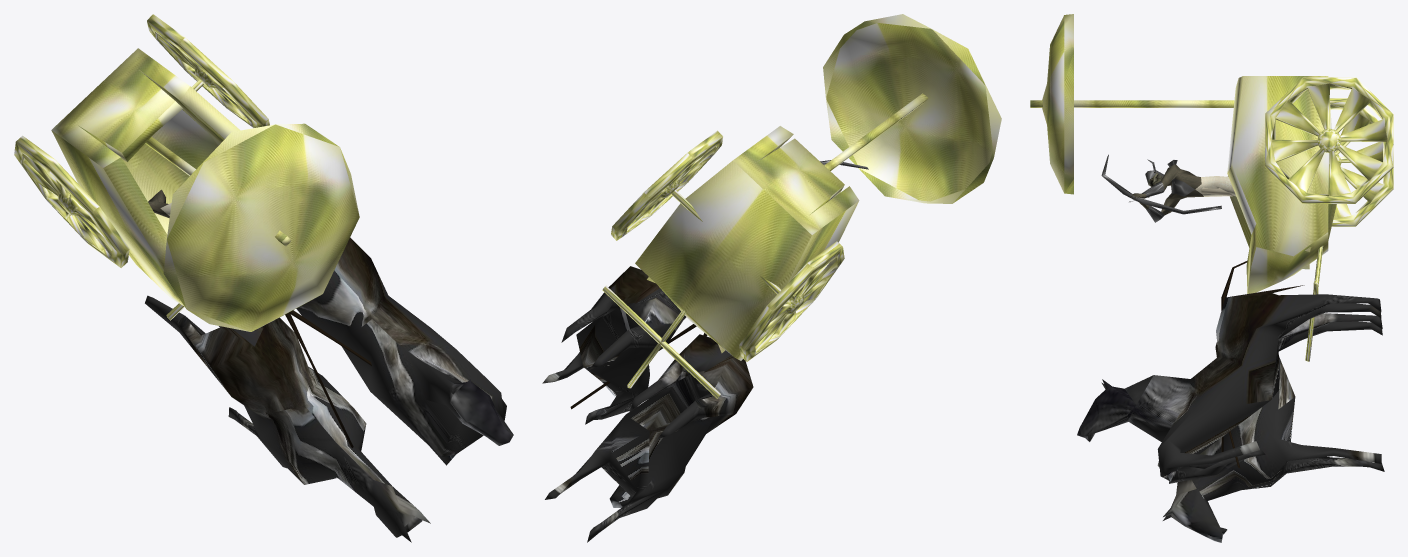
Rendered from chariot_000211.obj.
3 renders of one model, left to right at view 1: azimuth 30°, elevation 25°; view 2: azimuth 150°, elevation 25°; view 3: azimuth 270°, elevation 25°, orthographic. The views are drawn at different scales.
Visible parts, largest first — view 1: umbrella_Sphere, chariot_Cube.001, Horse.000_objHorse_0.001, Horse.001_objHorse_0.002, wheelR_Cylinder, wheelL_Cylinder.003, Cylinder_Cylinder.001; view 2: chariot_Cube.001, umbrella_Sphere, Horse.000_objHorse_0.001, Horse.001_objHorse_0.002, wheelR_Cylinder, wheelL_Cylinder.003, rod_Cylinder.002; view 3: Horse.001_objHorse_0.002, chariot_Cube.001, Horse.000_objHorse_0.001, wheelL_Cylinder.003, umbrella_Sphere, A4_Circle, wheelR_Cylinder, rod_Cylinder.002.
Part boxes in pixels (box(x1,y1,x2,y2)): umbrella_Sphere: box(145, 123, 359, 331); chariot_Cube.001: box(51, 48, 240, 306); Horse.000_objHorse_0.001: box(145, 295, 430, 542); Horse.001_objHorse_0.002: box(296, 237, 513, 465); wheelR_Cylinder: box(14, 135, 129, 267); wheelL_Cylinder.003: box(147, 14, 269, 127); Cylinder_Cylinder.001: box(285, 310, 371, 447); chariot_Cube.001: box(635, 126, 859, 360); umbrella_Sphere: box(823, 14, 1001, 203); Horse.000_objHorse_0.001: box(545, 334, 753, 542); Horse.001_objHorse_0.002: box(542, 266, 686, 424); wheelR_Cylinder: box(739, 241, 844, 361); wheelL_Cylinder.003: box(611, 130, 722, 240); rod_Cylinder.002: box(602, 190, 780, 398); Horse.001_objHorse_0.002: box(1077, 285, 1381, 483); chariot_Cube.001: box(1227, 76, 1336, 293); Horse.000_objHorse_0.001: box(1163, 313, 1384, 542); wheelL_Cylinder.003: box(1265, 77, 1393, 203); umbrella_Sphere: box(1030, 14, 1234, 194); A4_Circle: box(1101, 154, 1236, 222); wheelR_Cylinder: box(1330, 98, 1393, 226); rod_Cylinder.002: box(1305, 246, 1323, 361).
Size of the model in its own units: 6.6 by 8.24 by 6.33.
